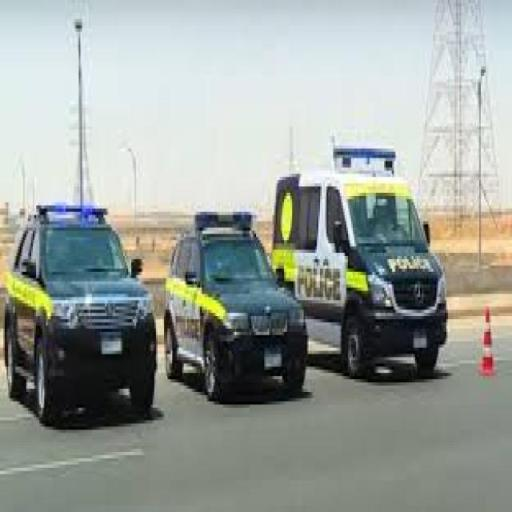Ambulance: (4, 202, 158, 432), (314, 137, 451, 393), (166, 202, 310, 416)
